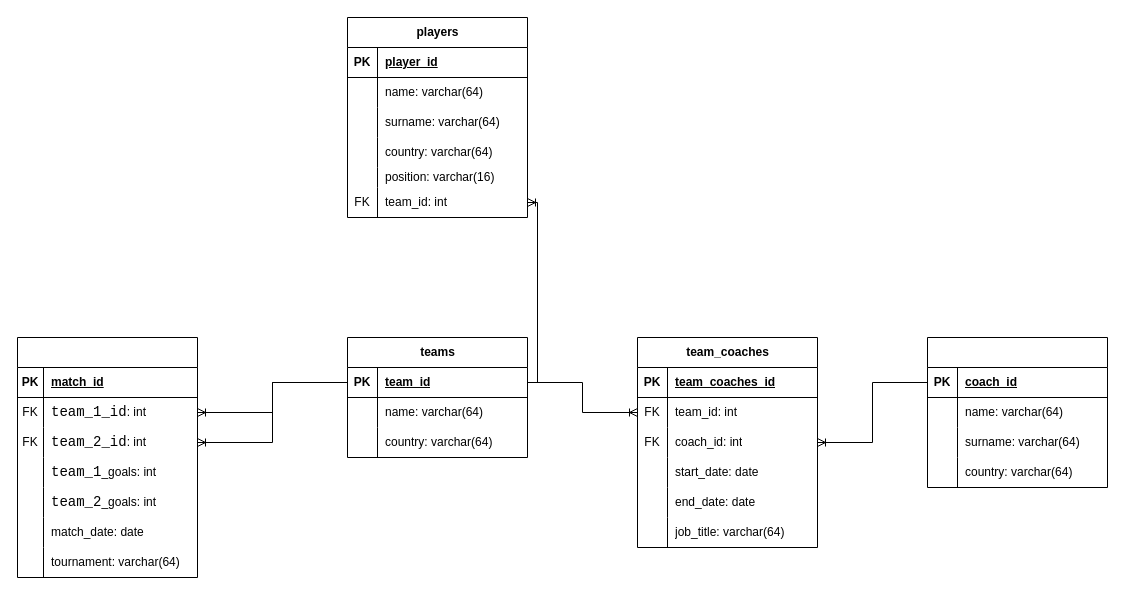
Image size: 1125x595. Some labels were removed from this diagram. The shapes that lost their labels are listed below. From the top down, each one's box as (x1, y1, x2, y2) in pixels, then its label:
(926, 336, 1108, 488): coaches
(16, 336, 198, 578): matches
